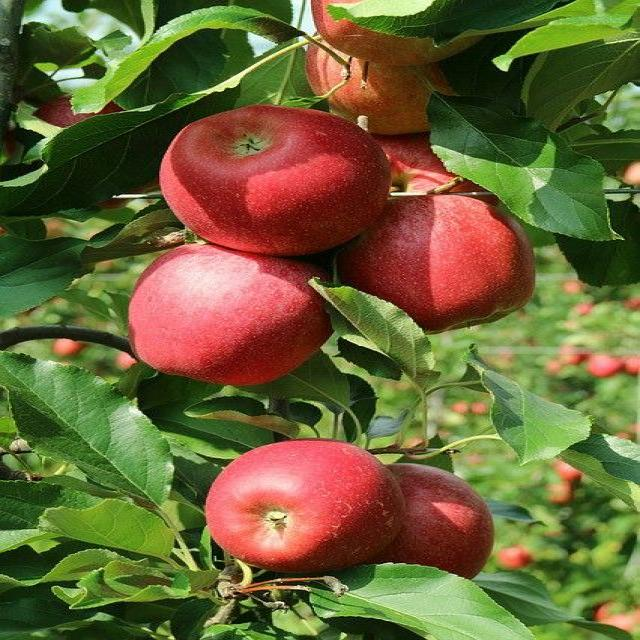Tao: (170, 108, 400, 256), (115, 242, 348, 388), (342, 193, 541, 337), (210, 443, 410, 574), (311, 29, 468, 135), (378, 466, 503, 582), (309, 0, 476, 65), (378, 124, 493, 197), (593, 356, 631, 381), (496, 543, 532, 568)
